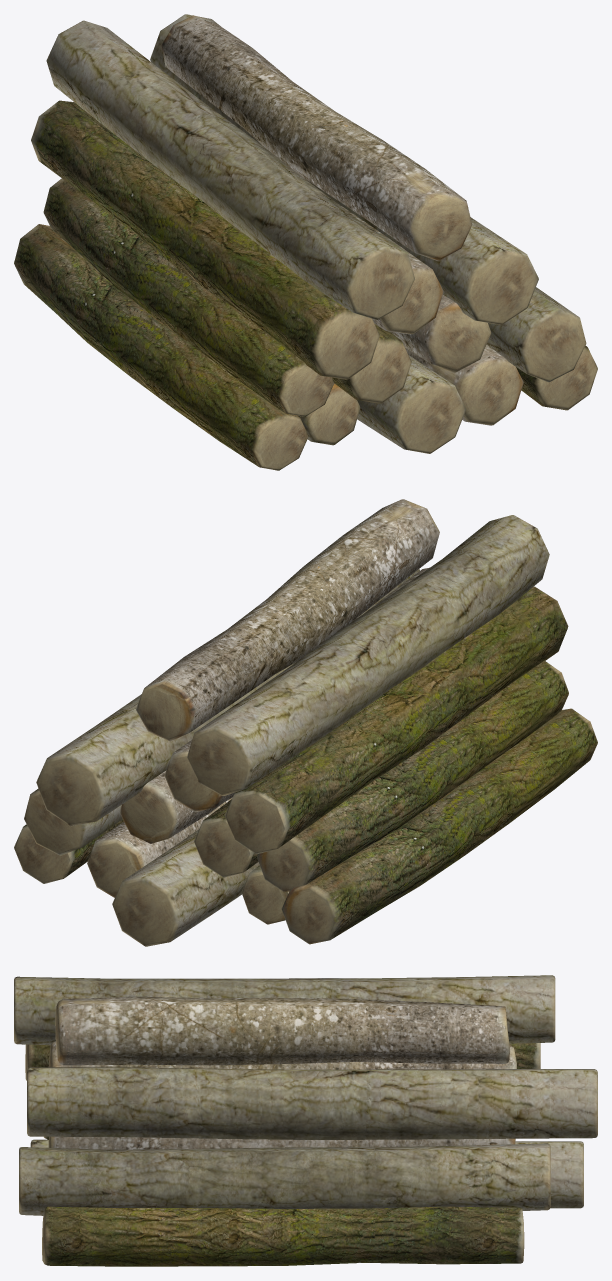
File: trunk.glb
3 renders of one model, top to bottom at view 1: azimuth 30°, elevation 25°; view 2: azimuth 150°, elevation 25°; view 3: azimuth 270°, elevation 25°, orthographic. The views are drawn at different scales.
Parts seen in each view (by area): view 1: trunk; view 2: trunk; view 3: trunk.
Boxes of the visible parts, x1,y1,x2,y2 form: trunk: (14,14,597,470); trunk: (14,499,597,946); trunk: (14,975,597,1266).
Size of the model in its own units: 0.8269 by 0.5768 by 1.38.
1 material, 1 textured.
